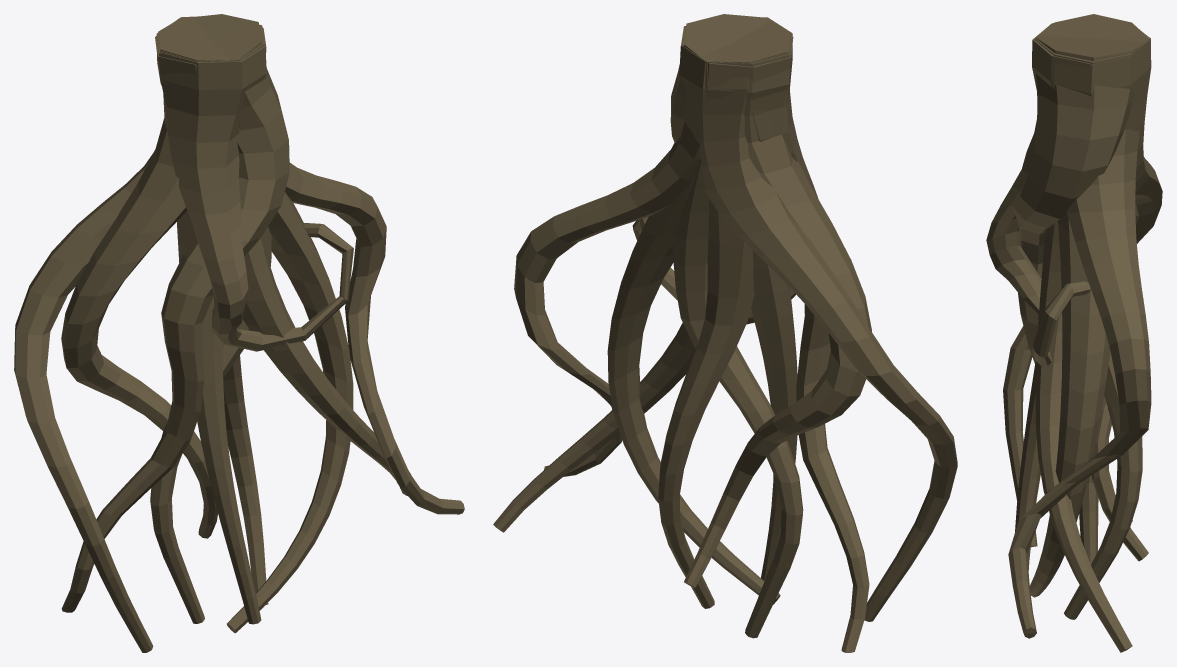
Rendered from RootBarrier.1.fbx.
3 views of the same model, side by side, from view 1: azimuth 30°, elevation 25°; view 2: azimuth 150°, elevation 25°; view 3: azimuth 270°, elevation 25° (orthographic). The views are drawn at different scales.
Visible parts, largest first — view 1: RootsBarrier.1; view 2: RootsBarrier.1; view 3: RootsBarrier.1.
Part boxes in pixels (x1,y1,x2,y2): RootsBarrier.1: (14,14,464,652); RootsBarrier.1: (493,14,957,652); RootsBarrier.1: (986,14,1162,652).
Size of the model in its own units: 318 by 432 by 120.
